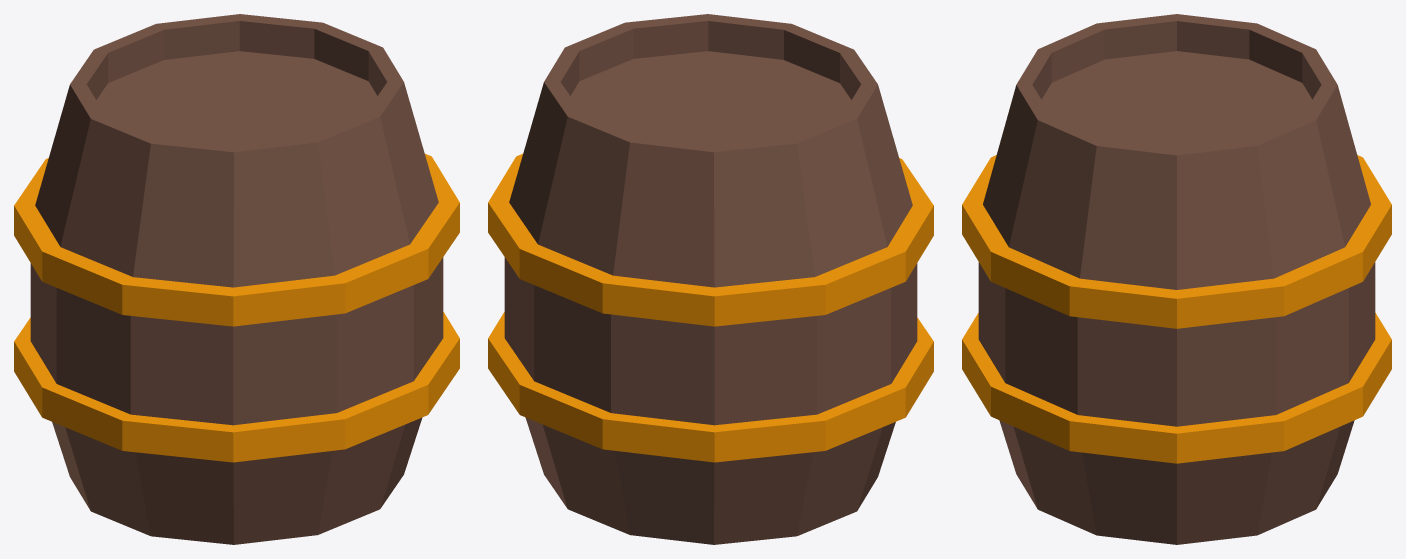
File: prop-barrel-1.glb
3 views of the same model, side by side, from view 1: azimuth 30°, elevation 25°; view 2: azimuth 150°, elevation 25°; view 3: azimuth 270°, elevation 25° (orthographic).
Parts seen in each view (by area): view 1: Node; view 2: Node; view 3: Node.
Boxes of the visible parts, bbox=[...] form: Node: bbox=[14, 14, 459, 544]; Node: bbox=[488, 14, 933, 544]; Node: bbox=[962, 14, 1391, 544].
Size of the model in its own units: 0.27 by 0.26 by 0.26.
